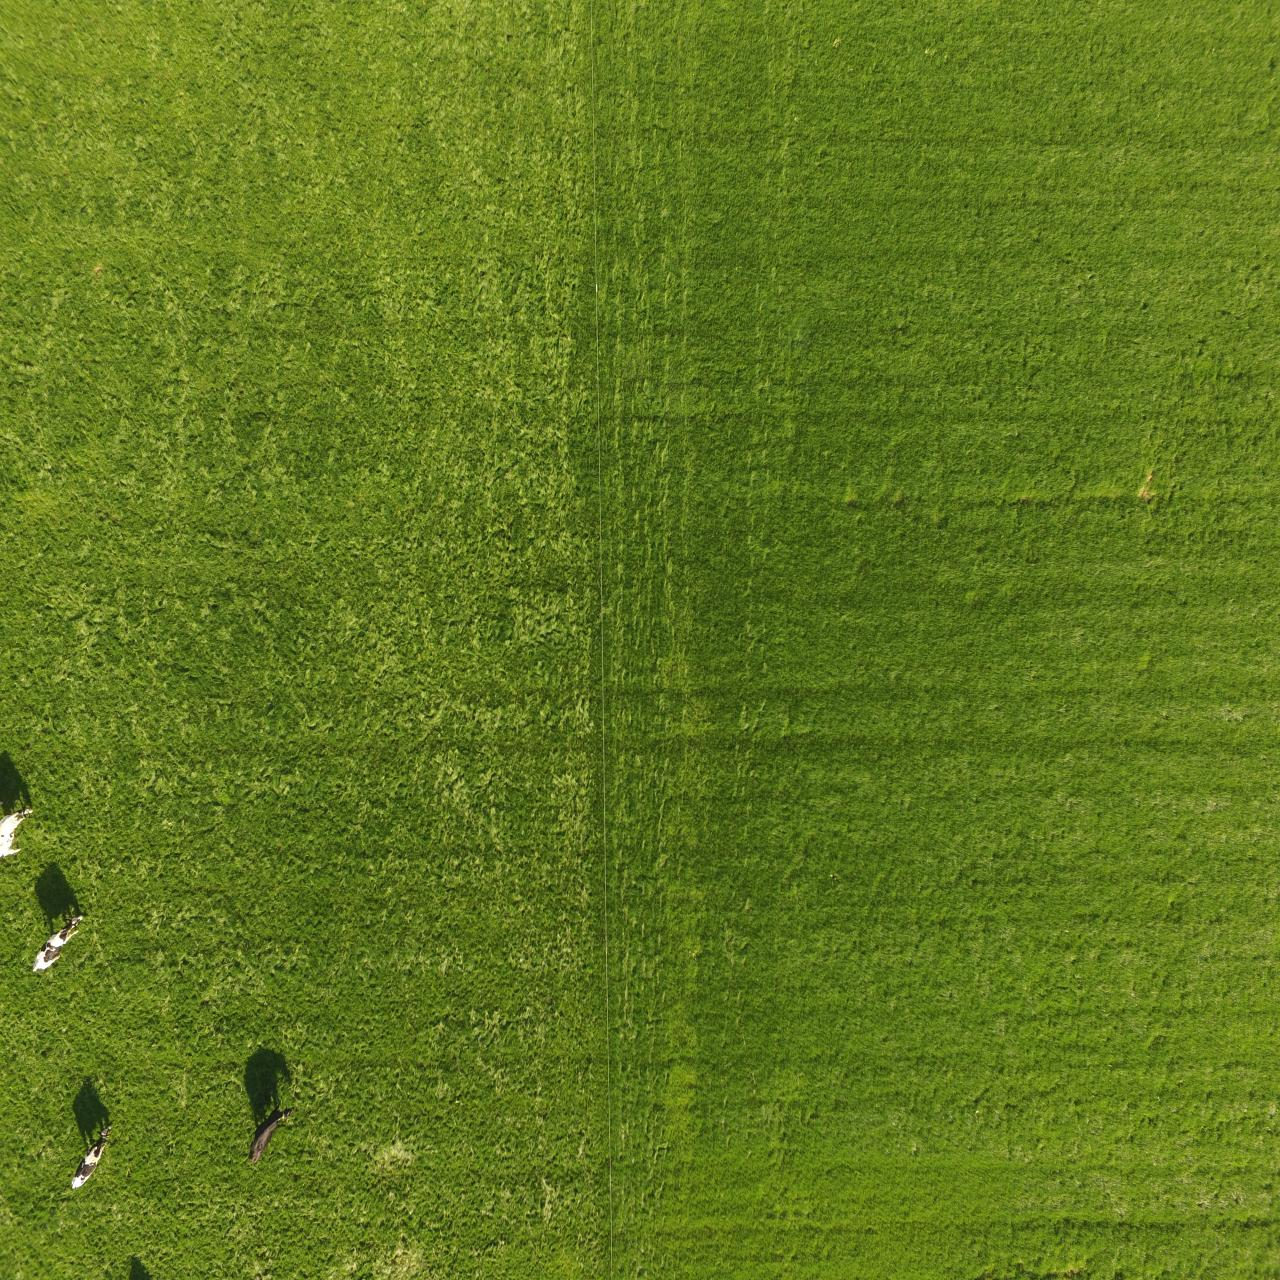cow: (27, 907, 94, 994), (60, 1118, 118, 1213), (232, 1102, 300, 1180)
